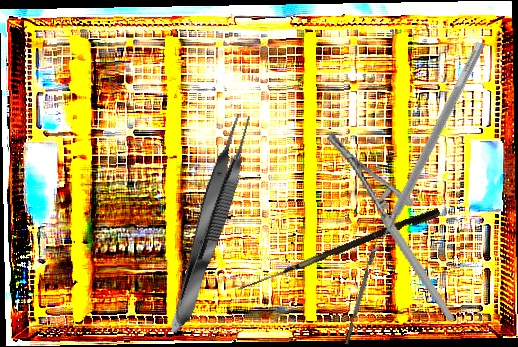Chopper: (338, 233, 382, 345)
Dressing Forceps: (166, 165, 245, 336)
Hook Surgical: (237, 204, 441, 300)
Needle Holder: (324, 115, 456, 340)
Spatula Surgical: (363, 37, 486, 259)
Tissue Forceps: (163, 108, 260, 332)
